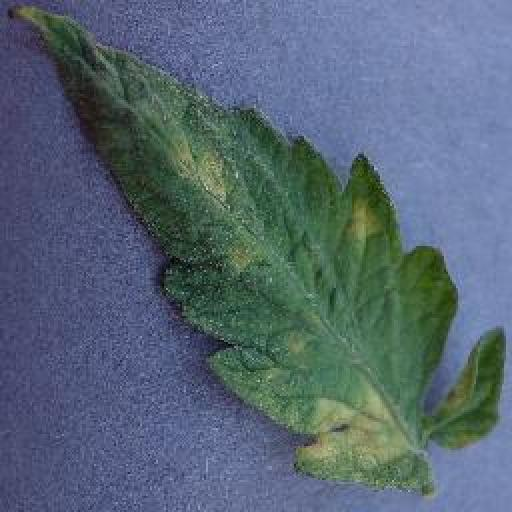Leaf Mold: (3, 1, 507, 495)
